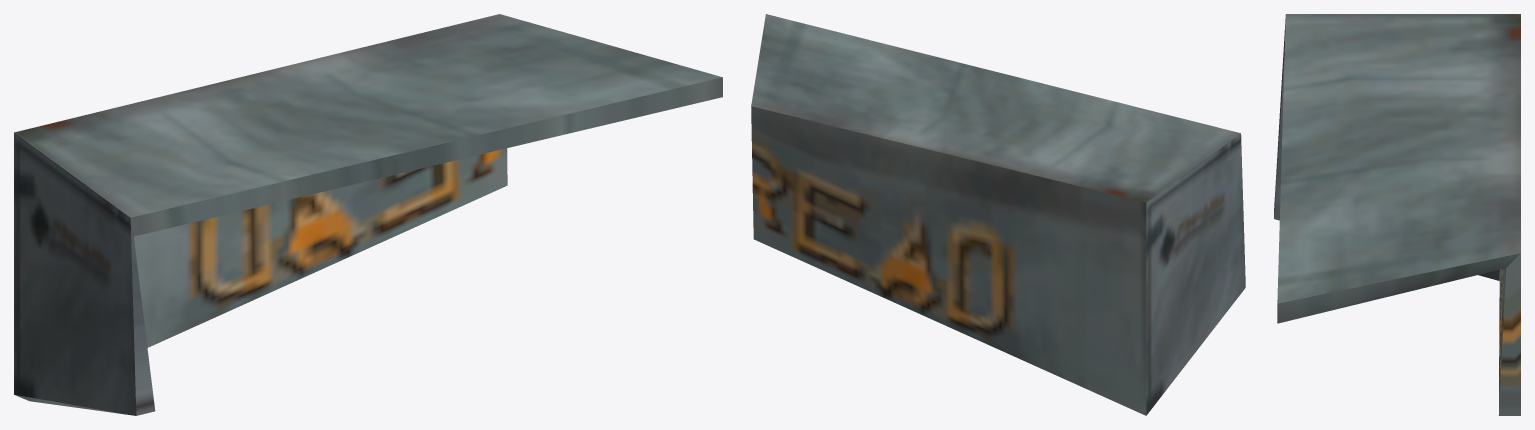
Rendered from Shared - Ground Vehicles - Big Rig - Damage State 30 - CVBigRig_d30.glb.
3 views of the same model, side by side, from view 1: azimuth 30°, elevation 25°; view 2: azimuth 150°, elevation 25°; view 3: azimuth 270°, elevation 25° (orthographic). The views are drawn at different scales.
Parts seen in each view (by area): view 1: CVBIGRIG_D30; view 2: CVBIGRIG_D30; view 3: CVBIGRIG_D30.
Boxes of the visible parts, x1,y1,x2,y2 form: CVBIGRIG_D30: [14, 14, 722, 415]; CVBIGRIG_D30: [751, 14, 1245, 415]; CVBIGRIG_D30: [1274, 14, 1520, 415].
Bounding box in the file's own units: 16.18 × 6.89 × 5.83.
1 material, 1 textured.
